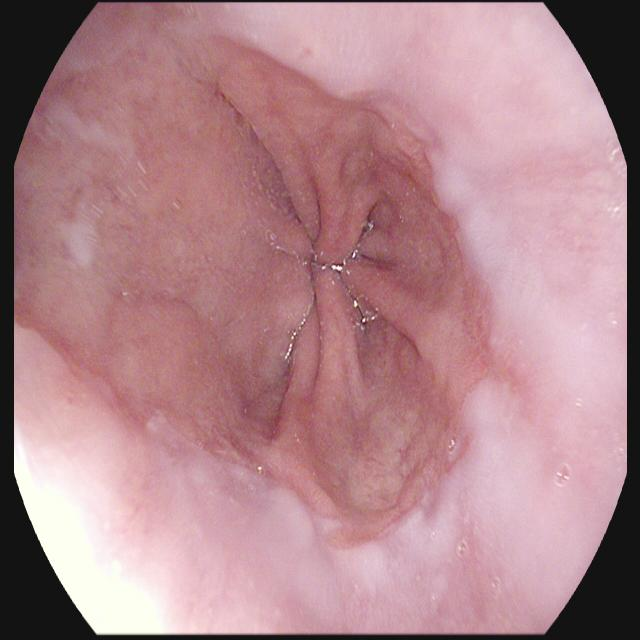esophagitis: (11, 0, 515, 569)
